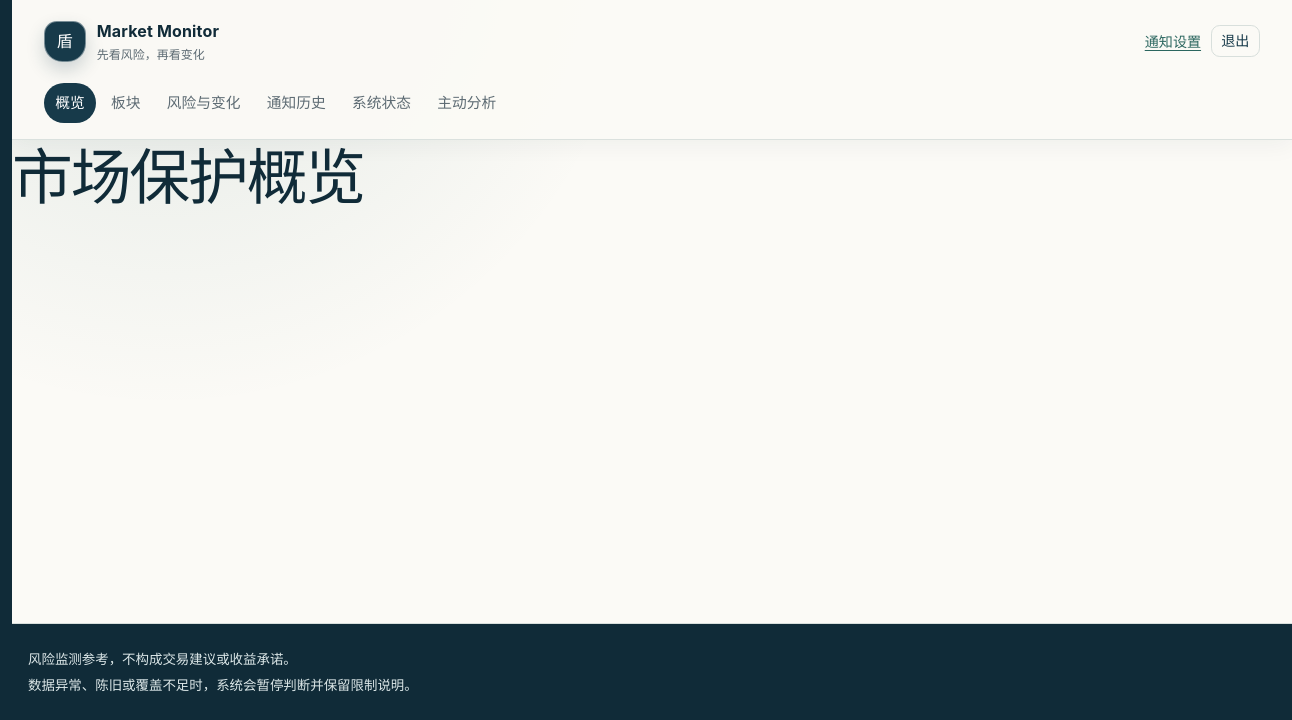
application protection shell › keeps the current session visible and reports a failed logout safely
Click the button "退出": click(1235, 42) left=1211, top=26, right=1260, bottom=58
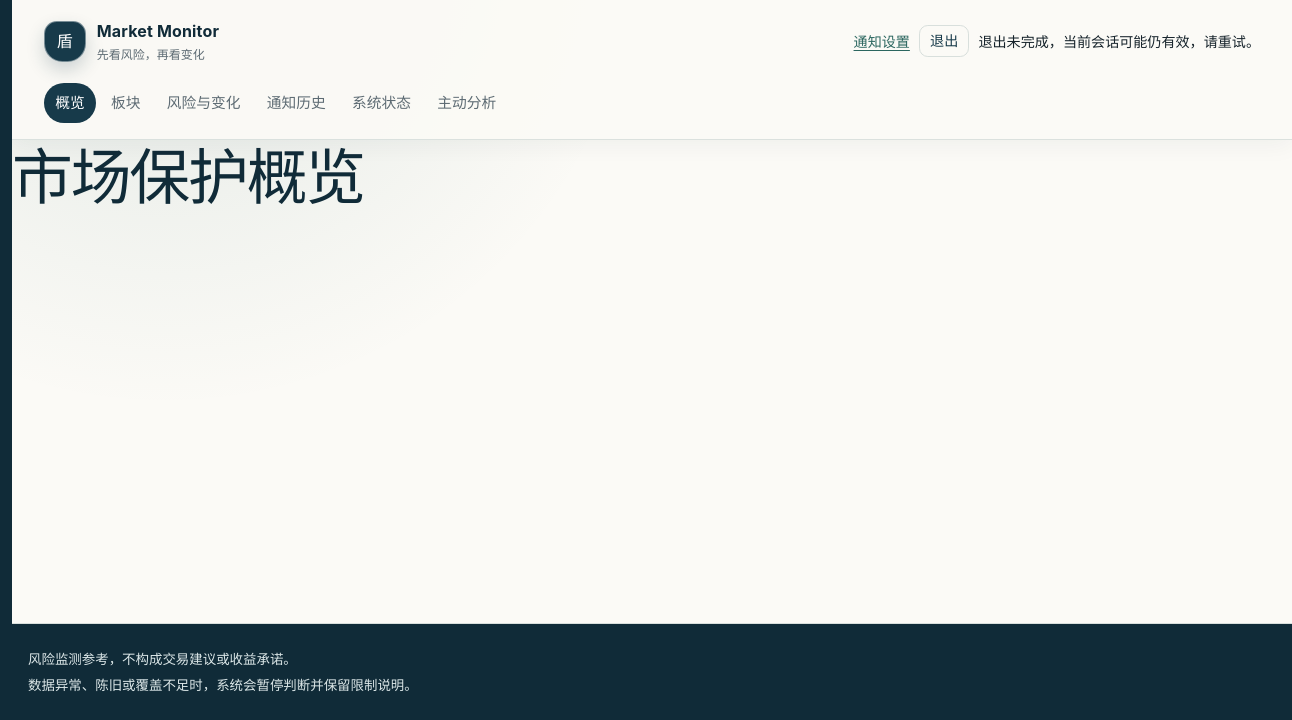
Expected: the message does not show "token leaked", left=978, top=30, right=1260, bottom=53
Expected: the message shows "退出未完成", left=978, top=33, right=1260, bottom=50
Expected: the message shows "当前会话可能仍有效", left=978, top=33, right=1260, bottom=50
